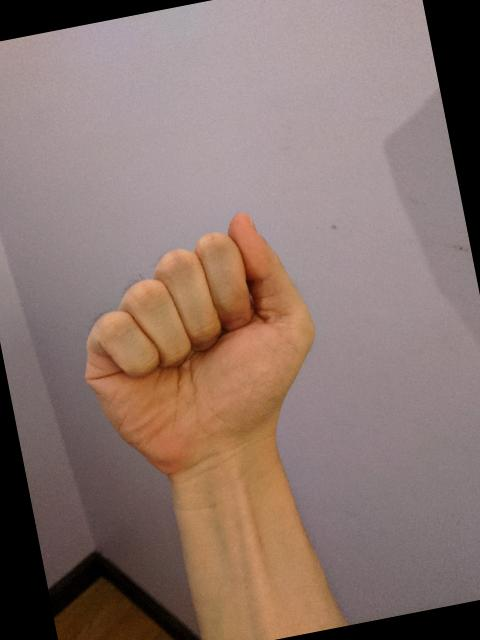A: (52, 196, 342, 487)
